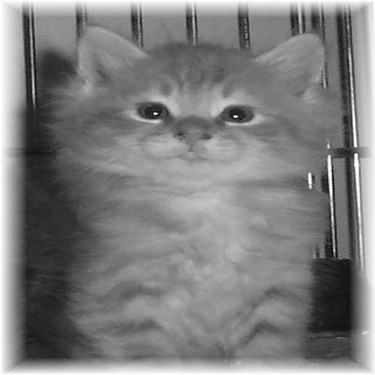cat: (26, 26, 344, 367)
